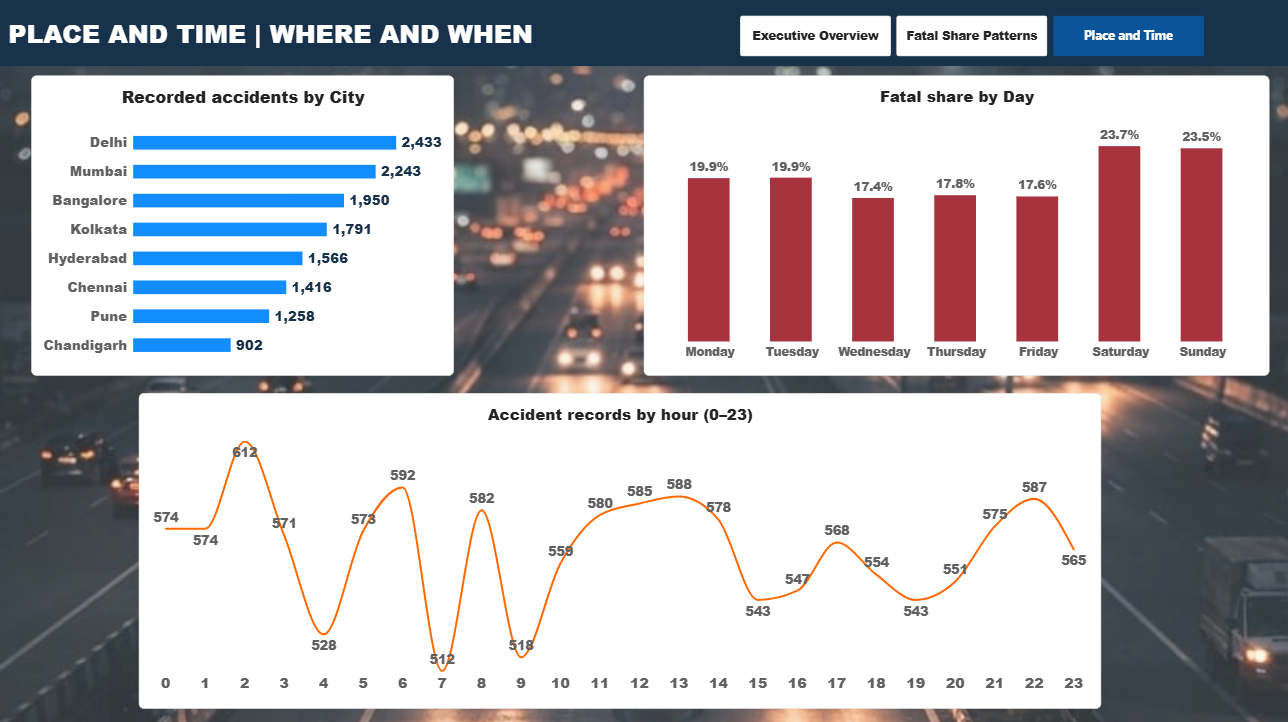

Layout of this report page (visuals, bound fields, positions):
{"tool":"powerbi","page":{"name":"Place and Time","canvas":[1920,1080],"ordinal":2},"visuals":[{"type":"shape","box":[0,0,1920.1,101.3],"z":0},{"type":"textbox","box":[0,25.3,808.9,76],"z":1000},{"type":"clusteredBarChart","title":"Recorded accidents by City","fields":{"Category":["Accidents.city"],"Y":["Accidents.Accidents Count"]},"box":[47.1,115.8,629.8,447],"z":2000},{"type":"clusteredColumnChart","title":"Fatal share by Day","fields":{"Category":["Accidents.day_of_week"],"Y":["Accidents.Fatal Share"]},"box":[959.1,115.8,932,447],"z":3000},{"type":"pageNavigator","box":[1102.1,25.3,693.1,61.5],"z":4000},{"type":"lineChart","title":"Accident records by hour (0–23)","fields":{"Category":["Accidents.hour"],"Y":["Accidents.Accidents Count"]},"box":[206.7,588.4,1433.3,470],"z":7000}]}

Visuals, with their boxes in screenshot pixels (x1, y1, x2, y2), scaled from the page's 1920x1080 canvas onto the 1288x722 screenshot:
shape: l=0, t=0, r=1287, b=68
textbox: l=0, t=17, r=543, b=68
"Recorded accidents by City" clusteredBarChart: l=32, t=77, r=454, b=376
"Fatal share by Day" clusteredColumnChart: l=643, t=77, r=1269, b=376
pageNavigator: l=739, t=17, r=1204, b=58
"Accident records by hour (0–23)" lineChart: l=139, t=393, r=1100, b=708
